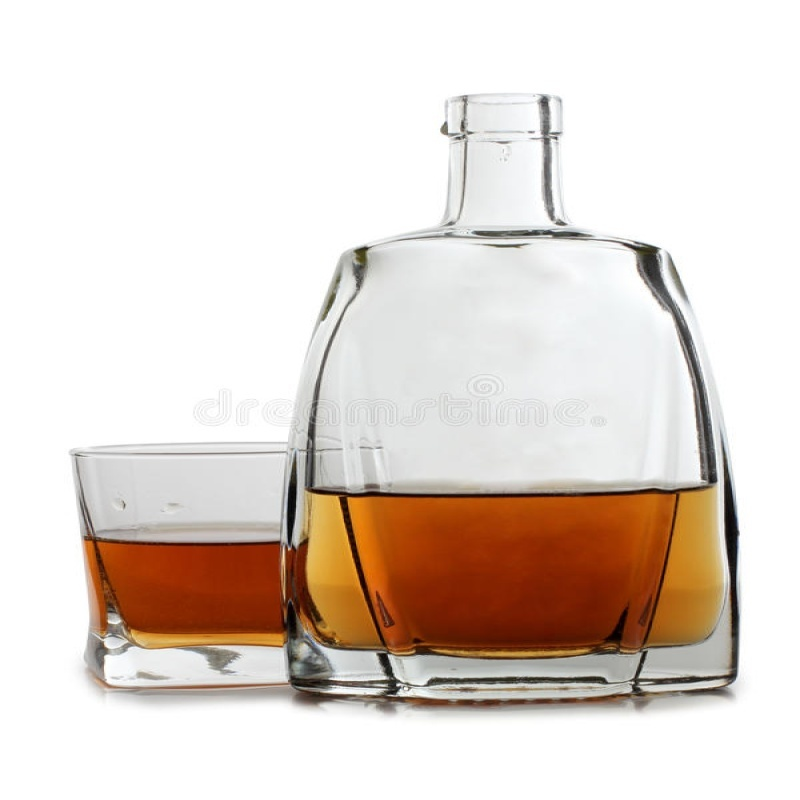whiskey: (58, 448, 315, 683)
